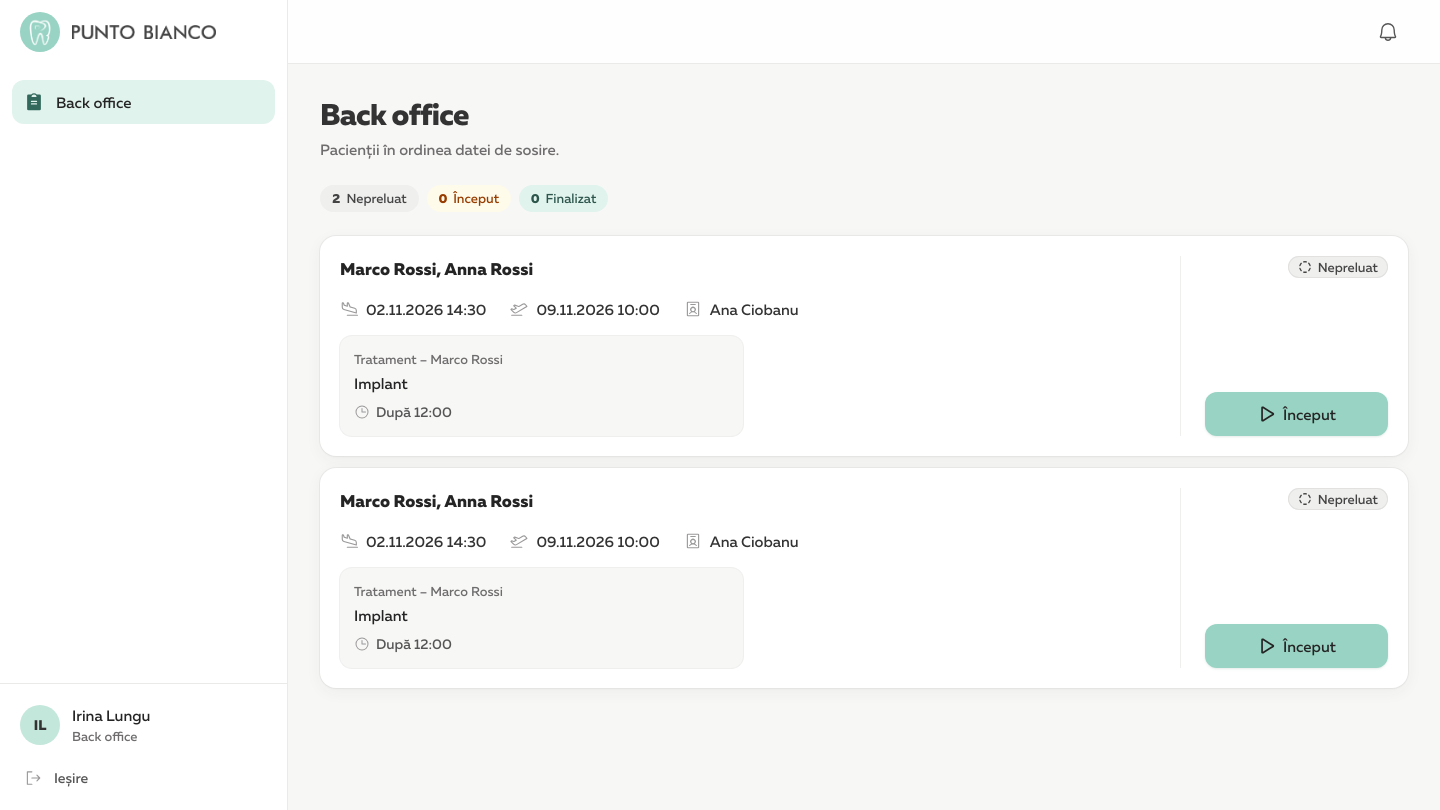
Test: Back office › două carduri salvate în paralel: primul rămâne blocat până la răspunsul lui (fără trimitere dublă)
The image size is (1440, 810).
Click the 1st button "Început": (1296, 414) [1205,392,1388,436]
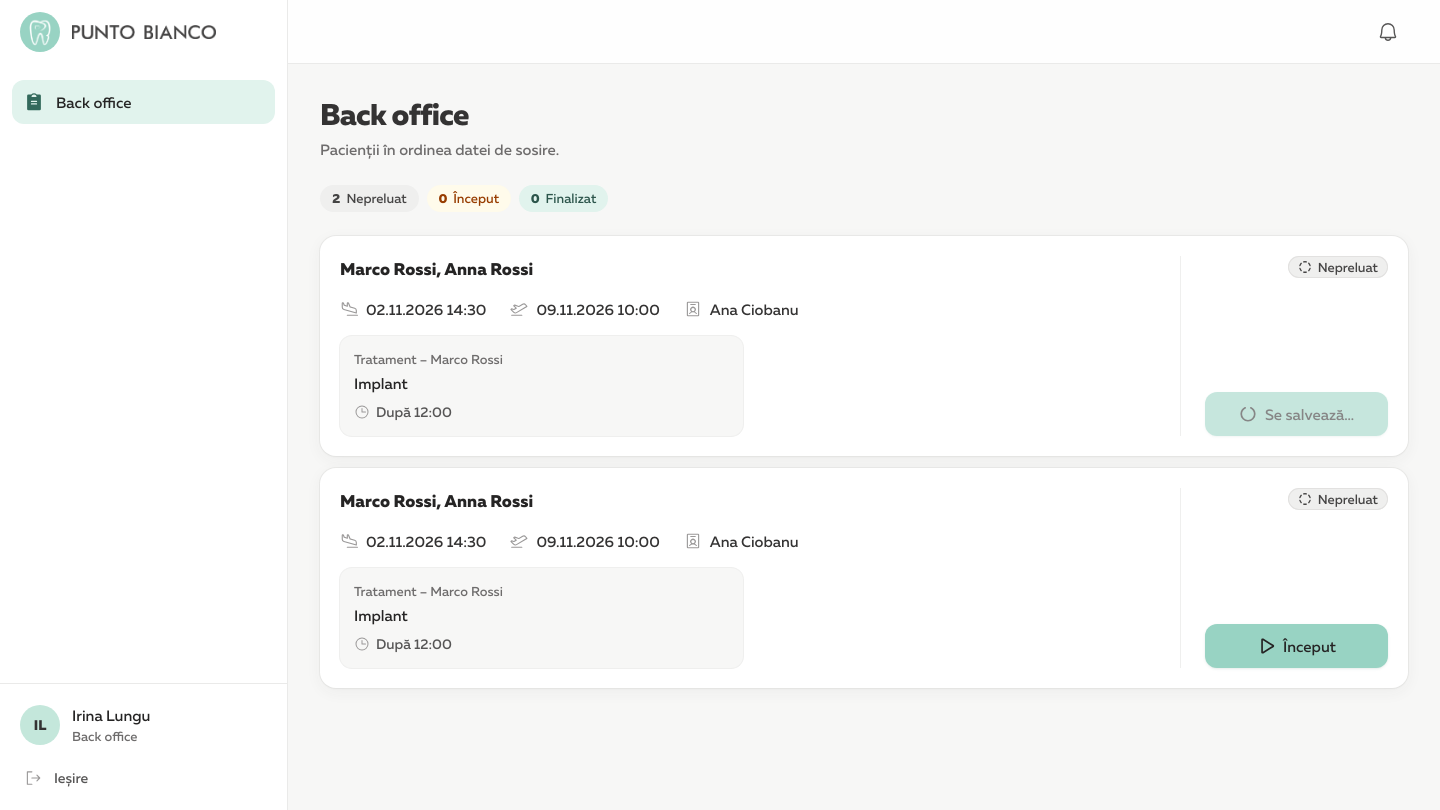
Click the button "Început": (1296, 646) [1205,624,1388,668]
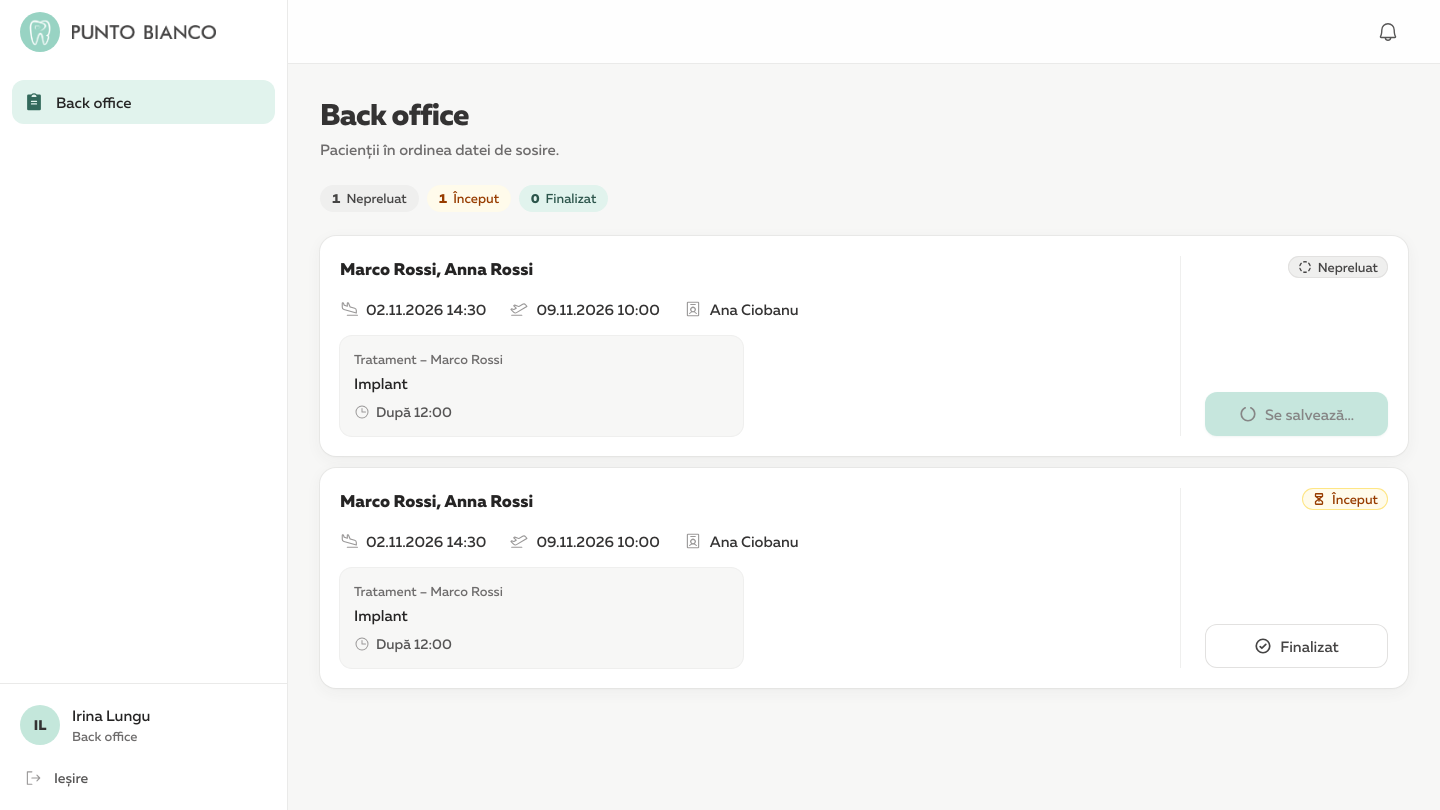
Expected: the button "Se salvează…" is disabled
Expected: the button "Finalizat" is shown, [1205,624,1388,668]
Click the button "Se salvează…": (1296, 414) [1205,392,1388,436]
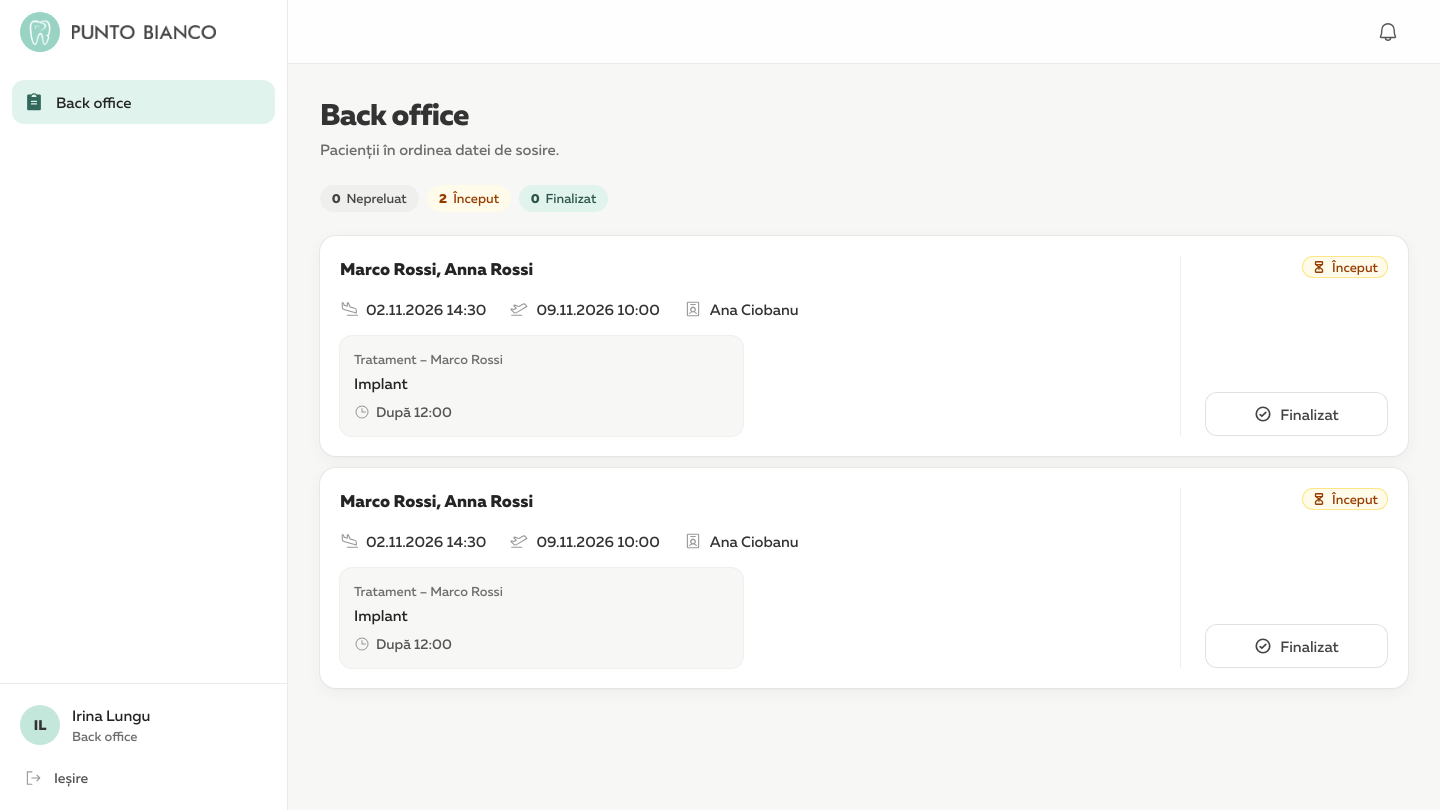
Expected: the 1st button "Finalizat" is enabled, [1205,392,1388,436]
